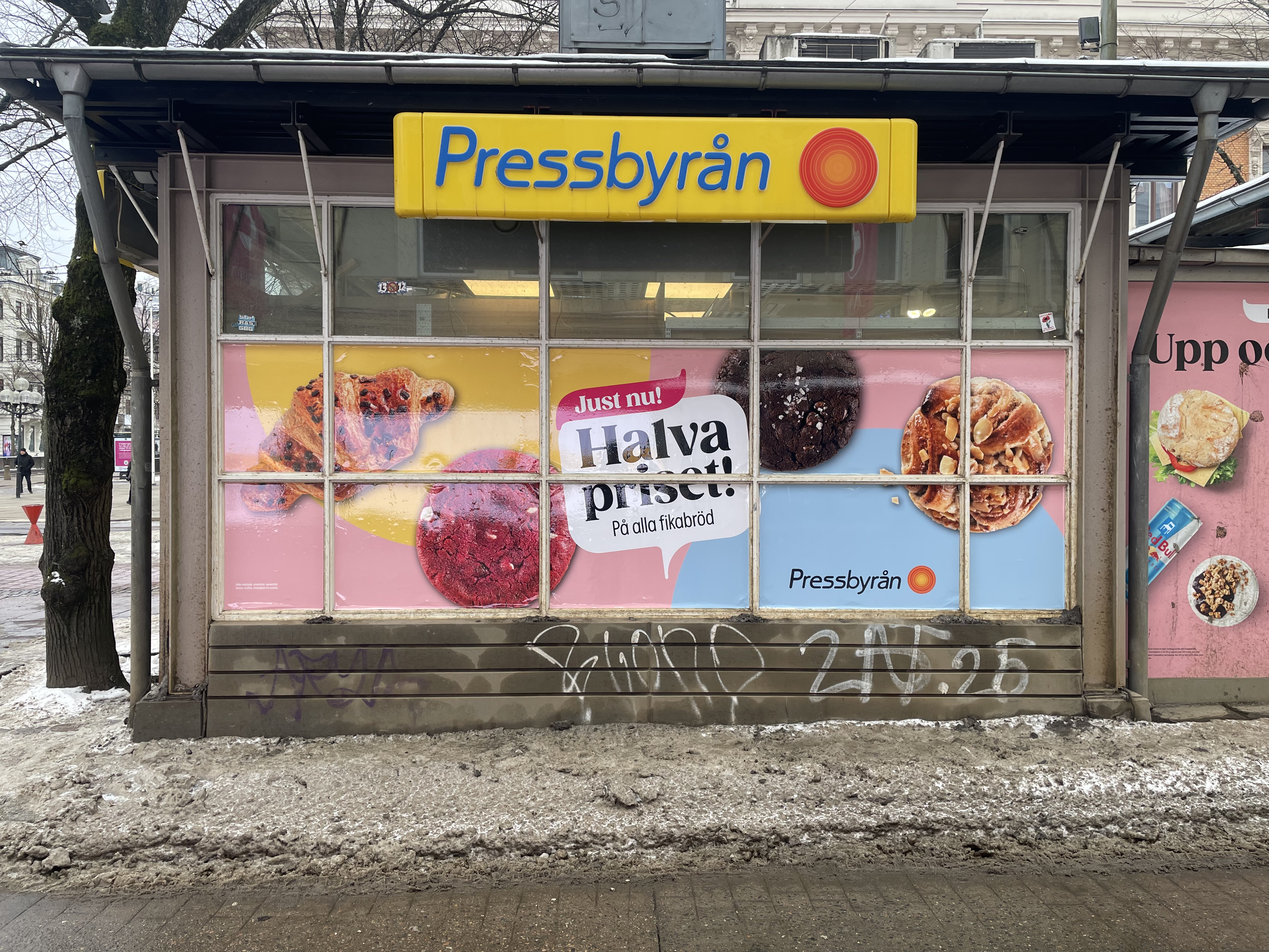advertisement: (217, 342, 1070, 615), (395, 112, 914, 219)
